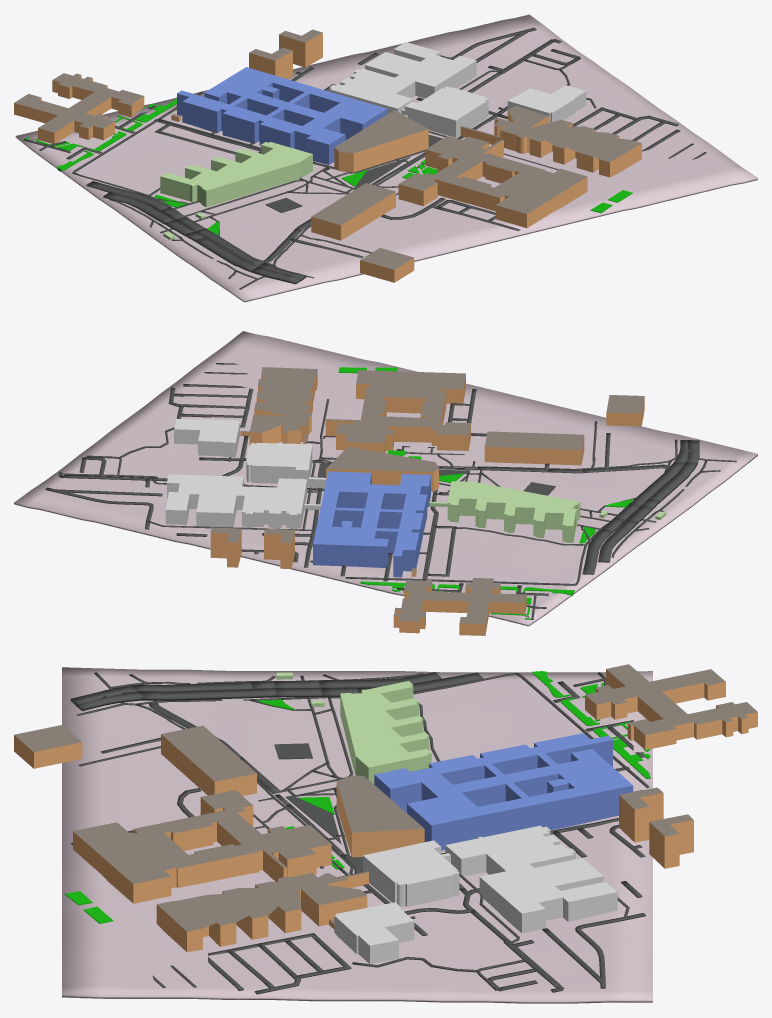
The model's file is HervantaKampus_OMS_MixedVersion_FixedRoads.fbx.
3 renders of one model, top to bottom at view 1: azimuth 30°, elevation 25°; view 2: azimuth 150°, elevation 25°; view 3: azimuth 270°, elevation 25°, orthographic. The views are drawn at different scales.
Parts seen in each view (by area): view 1: Terrain, Festia, Sahkotalo, Konetalo, TietoTalo, Rakennustalo, ServiceRoads, Kampusareena, Highways, Päärakennus, TTY-Parkki, RoadsBasic (+4 smaller); view 2: Terrain, Festia, Sahkotalo, Konetalo, Rakennustalo, ServiceRoads, TietoTalo, Highways, TTY-Parkki, RoadsBasic, Päärakennus, Kampusareena (+5 smaller); view 3: Terrain, Festia, Sahkotalo, Konetalo, Rakennustalo, ServiceRoads, TietoTalo, Highways, Päärakennus, Kampusareena, TTY-Parkki, RoadsBasic (+5 smaller).
Part boxes in pixels (x1,y1,x2,y2): Terrain: [15, 14, 757, 302]; Festia: [14, 29, 641, 282]; Sahkotalo: [177, 67, 387, 164]; Konetalo: [398, 136, 587, 227]; TietoTalo: [160, 142, 312, 240]; Rakennustalo: [329, 42, 476, 113]; ServiceRoads: [30, 27, 680, 258]; Kampusareena: [334, 110, 428, 172]; Highways: [86, 181, 306, 284]; Päärakennus: [401, 86, 488, 137]; TTY-Parkki: [311, 183, 395, 240]; RoadsBasic: [73, 70, 706, 289]; Terrain: [14, 331, 757, 626]; Festia: [210, 367, 644, 635]; Sahkotalo: [313, 471, 430, 577]; Konetalo: [325, 370, 470, 452]; Rakennustalo: [165, 474, 321, 529]; ServiceRoads: [45, 384, 610, 617]; TietoTalo: [429, 481, 665, 542]; Highways: [582, 440, 699, 574]; TTY-Parkki: [484, 431, 584, 465]; RoadsBasic: [147, 363, 736, 584]; Päärakennus: [246, 442, 325, 488]; Kampusareena: [326, 446, 438, 491]; Terrain: [62, 667, 652, 1003]; Festia: [14, 664, 757, 952]; Sahkotalo: [374, 733, 633, 850]; Konetalo: [73, 790, 331, 903]; Rakennustalo: [445, 825, 617, 933]; ServiceRoads: [70, 681, 645, 994]; TietoTalo: [276, 672, 431, 784]; Highways: [70, 672, 483, 710]; Päärakennus: [363, 840, 459, 906]; Kampusareena: [336, 775, 424, 857]; TTY-Parkki: [161, 725, 256, 795]; RoadsBasic: [77, 672, 629, 988].
Bounding box in the file's own units: 56236 × 3287 × 54498.
